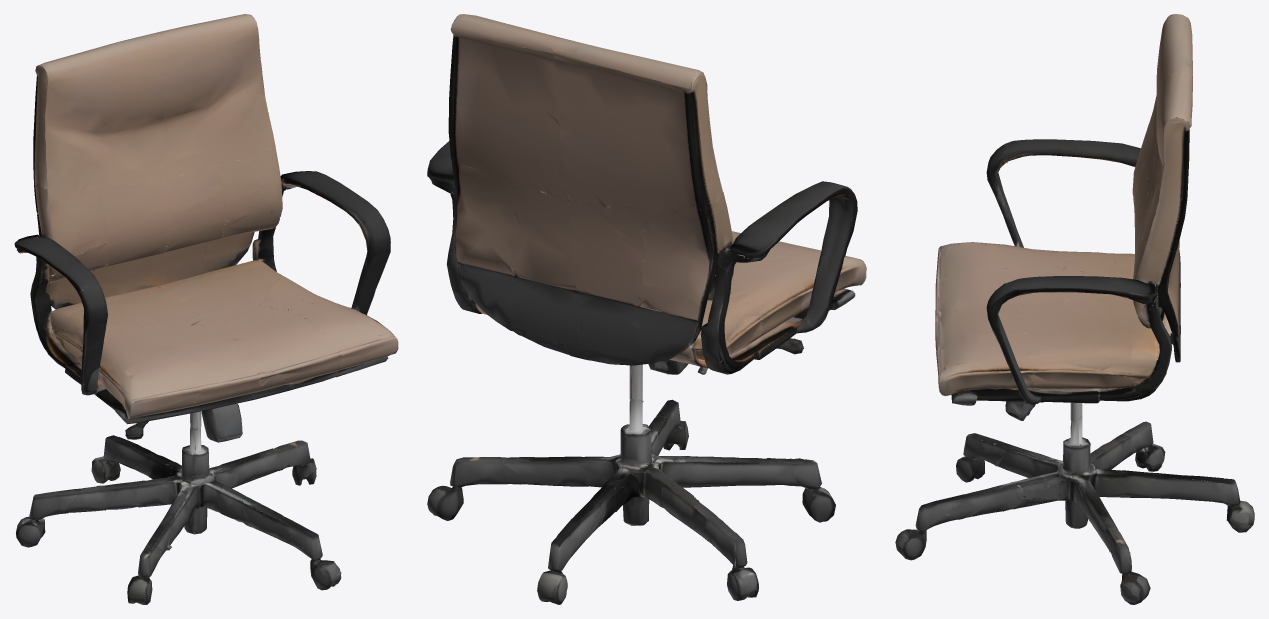
File: officechair-tripo.glb
3 views of the same model, side by side, from view 1: azimuth 30°, elevation 25°; view 2: azimuth 150°, elevation 25°; view 3: azimuth 270°, elevation 25° (orthographic). The views are drawn at different scales.
Visible parts, largest first — view 1: tripo_node_20854998-2e87-4779-97c1-2d59d4be1333; view 2: tripo_node_20854998-2e87-4779-97c1-2d59d4be1333; view 3: tripo_node_20854998-2e87-4779-97c1-2d59d4be1333.
Boxes of the visible parts, bbox=[...] form: tripo_node_20854998-2e87-4779-97c1-2d59d4be1333: bbox=[14, 14, 398, 604]; tripo_node_20854998-2e87-4779-97c1-2d59d4be1333: bbox=[427, 14, 866, 604]; tripo_node_20854998-2e87-4779-97c1-2d59d4be1333: bbox=[895, 14, 1254, 604].
Size of the model in its own units: 0.6861 by 1 by 0.6923.
Materials: 1 (1 with a texture image).
